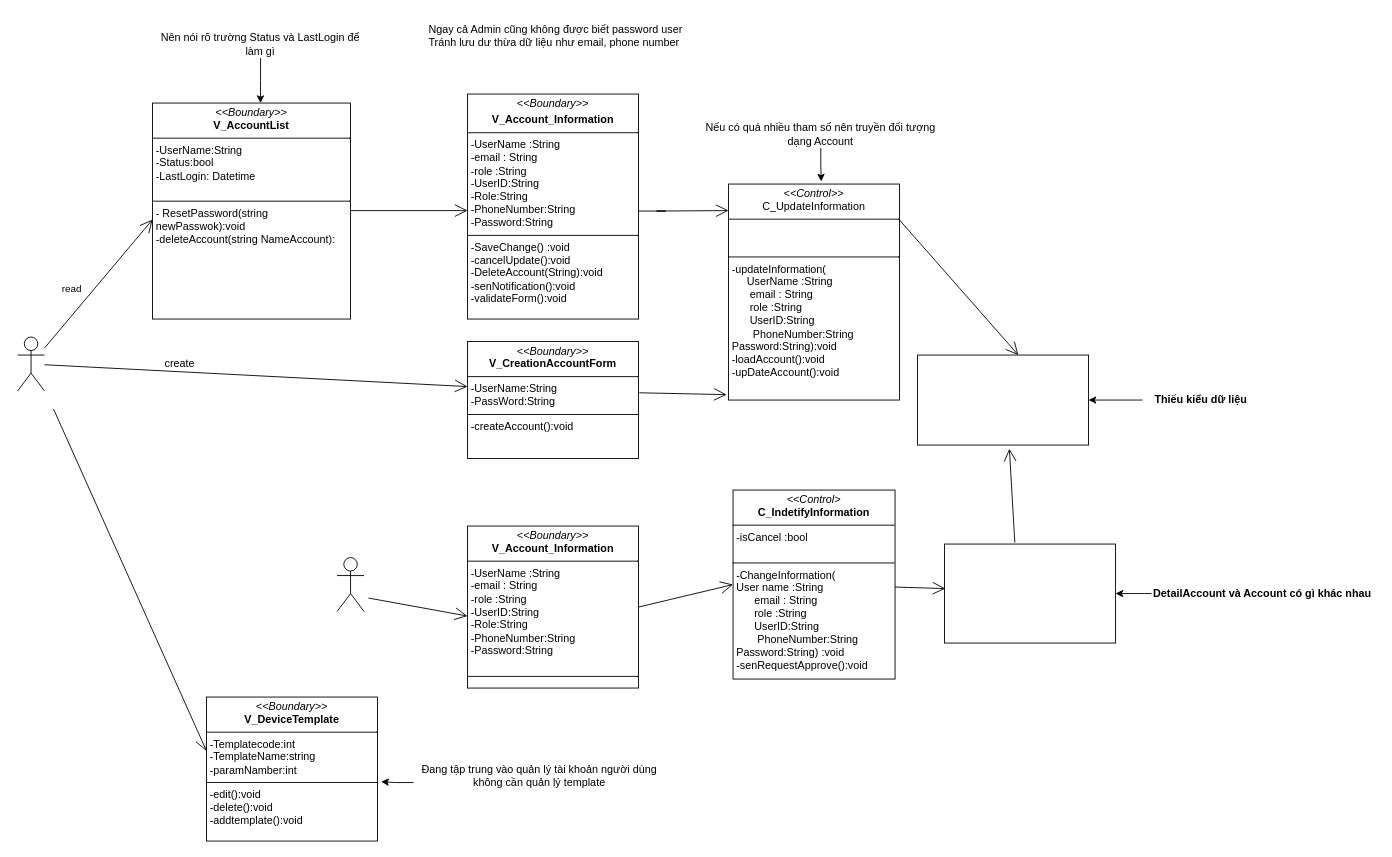
Some shapes in this 1392 by 857 pixel diagram are drawn without their labels. The shapes that lost their labels are listed below. From the top down, each one's box as (x1, y1, x2, y2) in pixels, then its label:
(17, 336, 45, 391): Admin
(917, 354, 1089, 445): <<entity>> M_Account -UserName: -Password:
(336, 557, 364, 612): User
(944, 543, 1116, 643): <<entity>> M_DetailAccount -Lịch sử hoạt động :datetime -BáoCaoSuCo:bool
